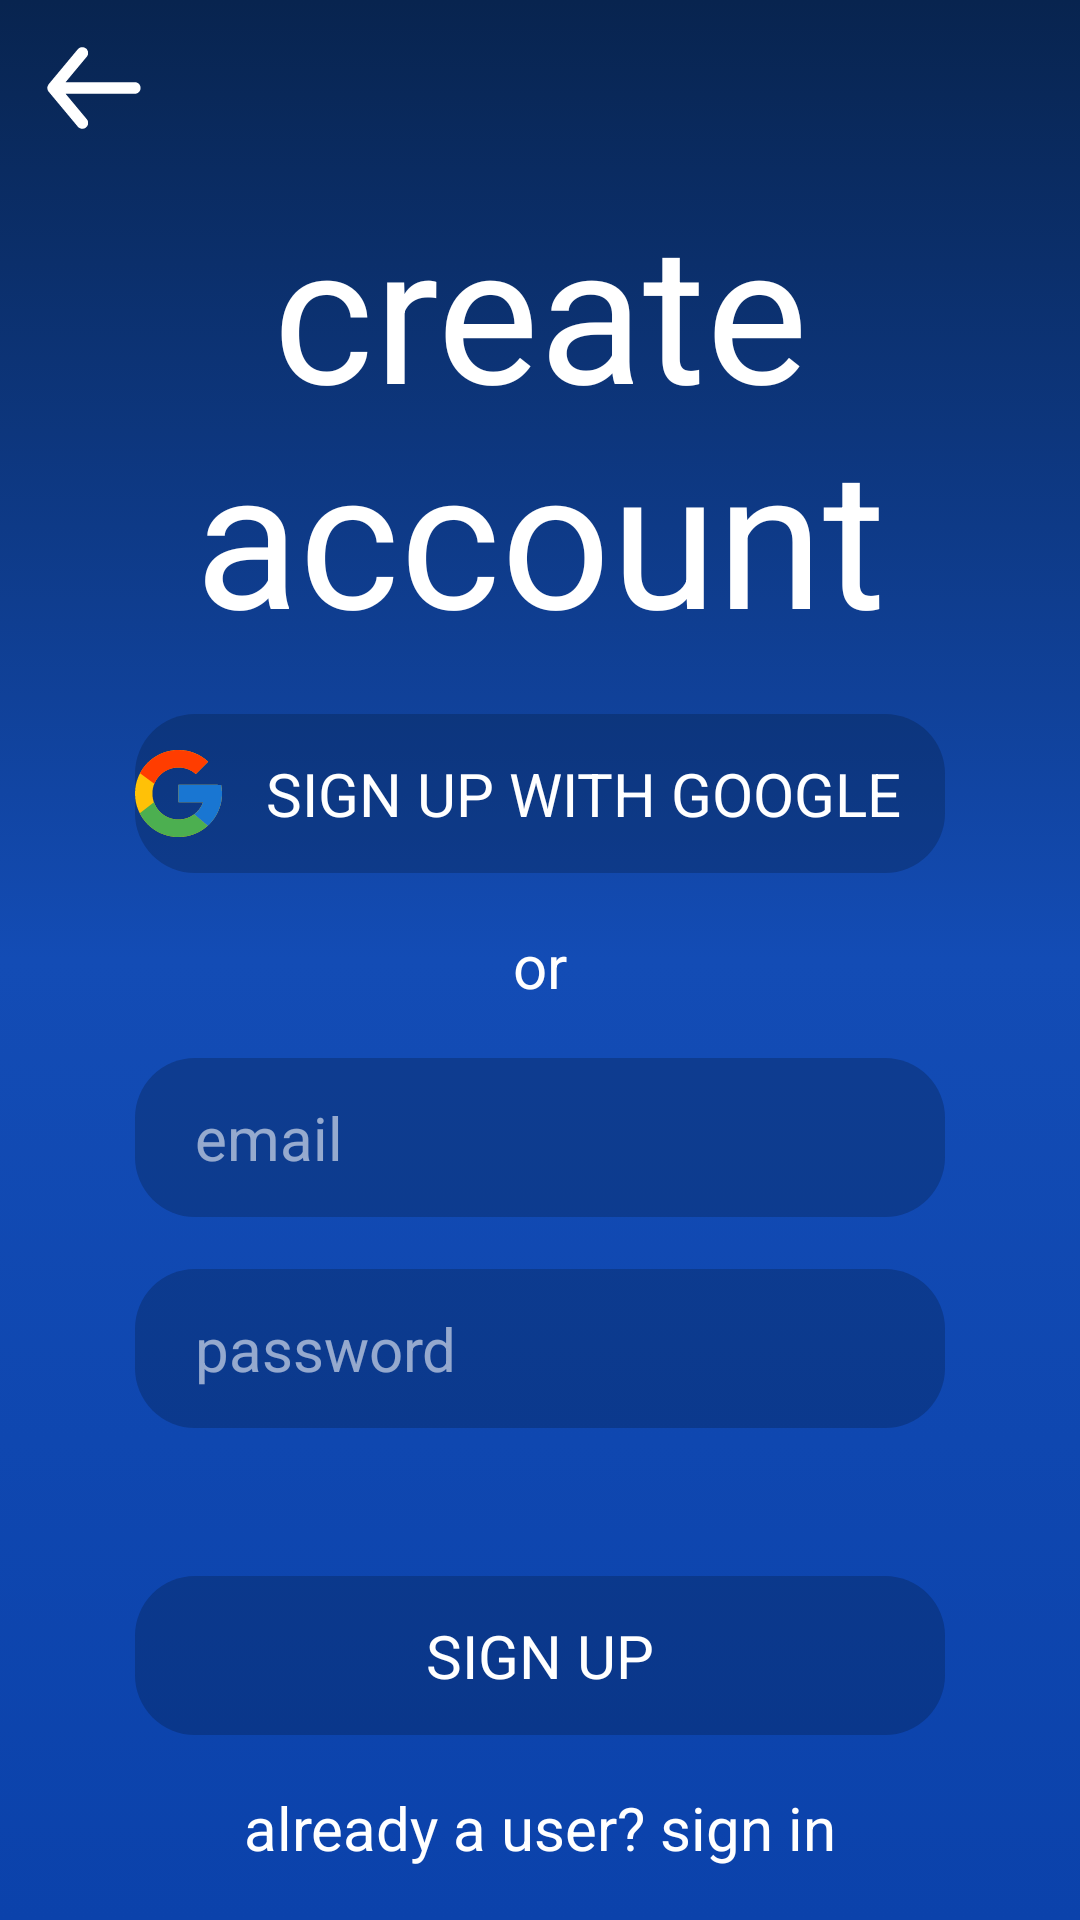

Where to tap for icons on this 1080*1920 app screen, as [x,y]:
back: [94,88]
